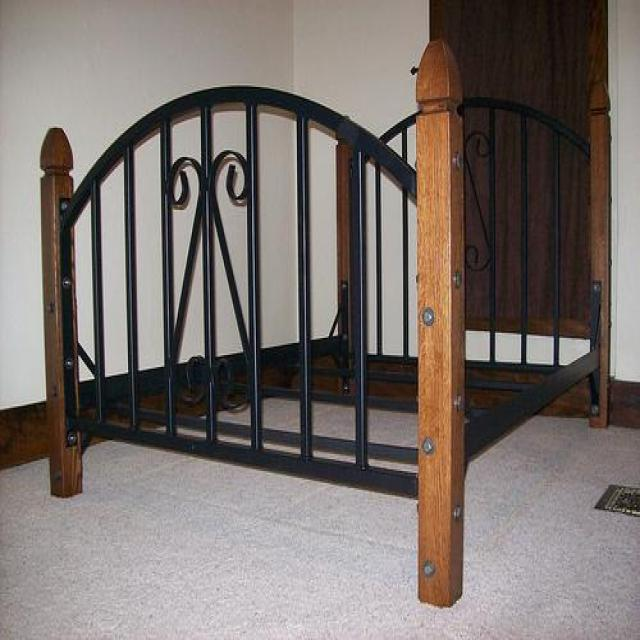bed: (38, 36, 607, 606)
